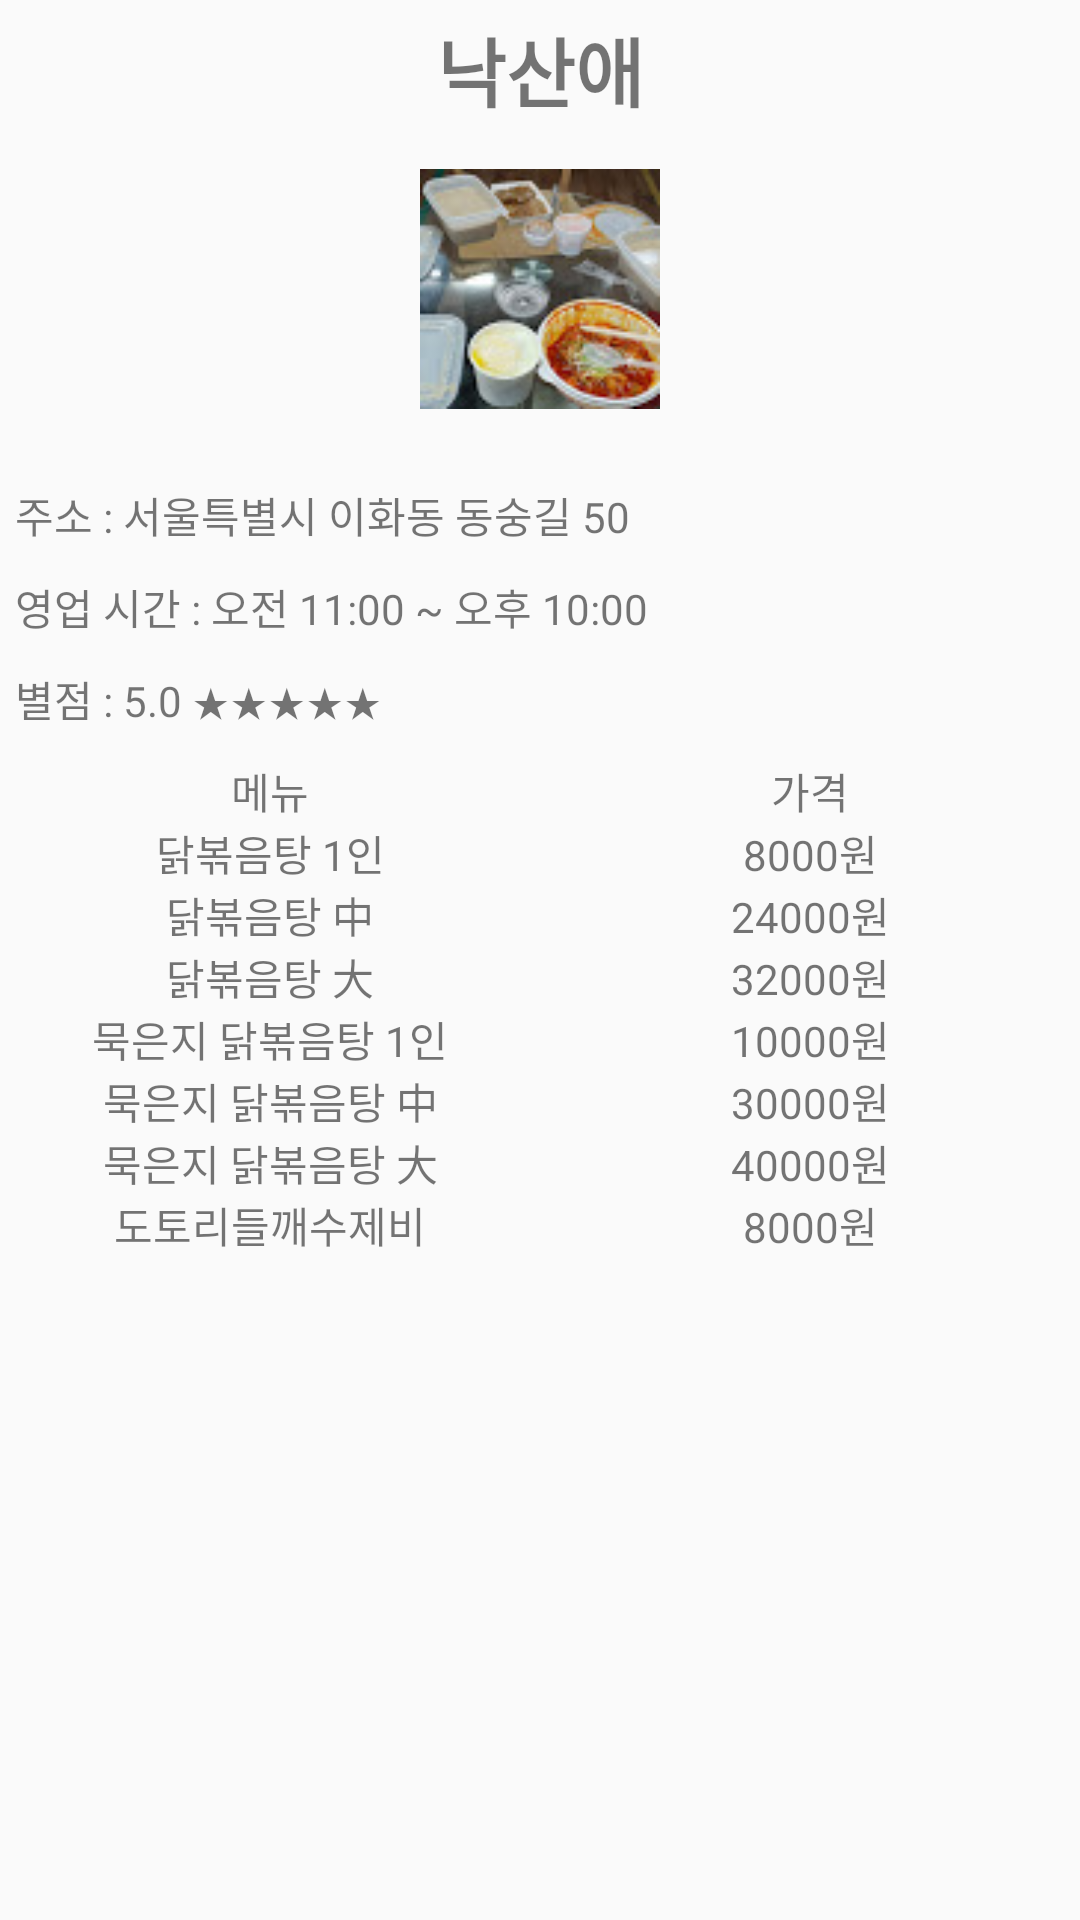

Locate icon controls on the screen. Image size 1080px x 1920px, boxes as (x1, y1, x2, y2).
naksanfood: (420, 169, 660, 409)
